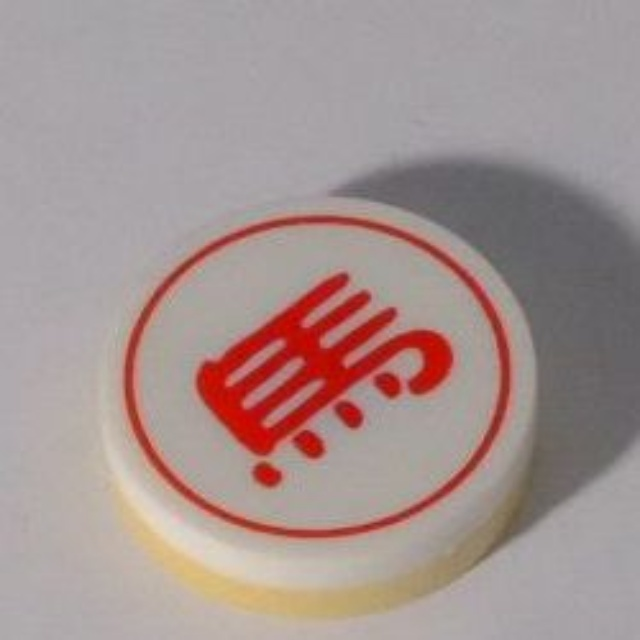red_ma: (94, 186, 546, 620)
